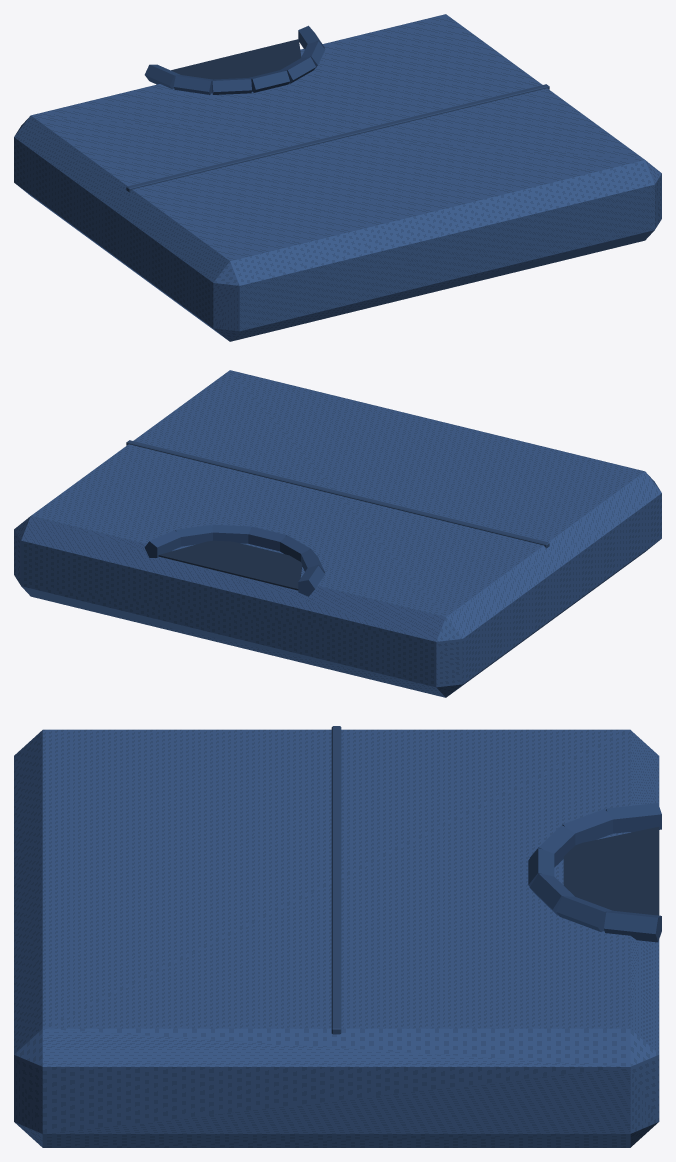
File: sweater.glb
3 renders of one model, top to bottom at view 1: azimuth 30°, elevation 25°; view 2: azimuth 150°, elevation 25°; view 3: azimuth 270°, elevation 25°, orthographic. The views are drawn at different scales.
Parts seen in each view (by area): view 1: block_body, block_neckhole, block_fold, block_neck4, block_neck3, block_neck5, block_neck6, block_neck2; view 2: block_body, block_neckhole, block_fold, block_neck0, block_neck2, block_neck3, block_neck1, block_neck6; view 3: block_body, block_neckhole, block_fold, block_neck0, block_neck6, block_neck1, block_neck5, block_neck2, block_neck4, block_neck3.
Boxes of the visible parts, x1,y1,x2,y2 form: block_body: (14, 14, 661, 341); block_neckhole: (171, 39, 301, 79); block_fold: (126, 84, 549, 192); block_neck4: (212, 78, 251, 94); block_neck3: (249, 70, 289, 92); block_neck5: (173, 75, 212, 94); block_neck6: (144, 64, 180, 89); block_neck2: (280, 57, 315, 83); block_body: (14, 370, 661, 697); block_neckhole: (158, 540, 302, 590); block_fold: (126, 440, 549, 548); block_neck0: (144, 530, 180, 557); block_neck2: (212, 524, 251, 543); block_neck3: (248, 526, 286, 551); block_neck1: (175, 525, 212, 546); block_neck6: (298, 565, 324, 596); block_body: (14, 729, 659, 1147); block_neckhole: (563, 826, 659, 915); block_fold: (331, 726, 341, 1034); block_neck0: (604, 910, 661, 942); block_neck6: (606, 803, 661, 833); block_neck1: (556, 896, 612, 931); block_neck5: (562, 809, 612, 845); block_neck2: (529, 873, 574, 915); block_neck4: (530, 825, 575, 867); block_neck3: (528, 848, 554, 886).
Size of the model in its own units: 0.32 by 0.0637 by 0.2712.
1 material, 1 textured.
